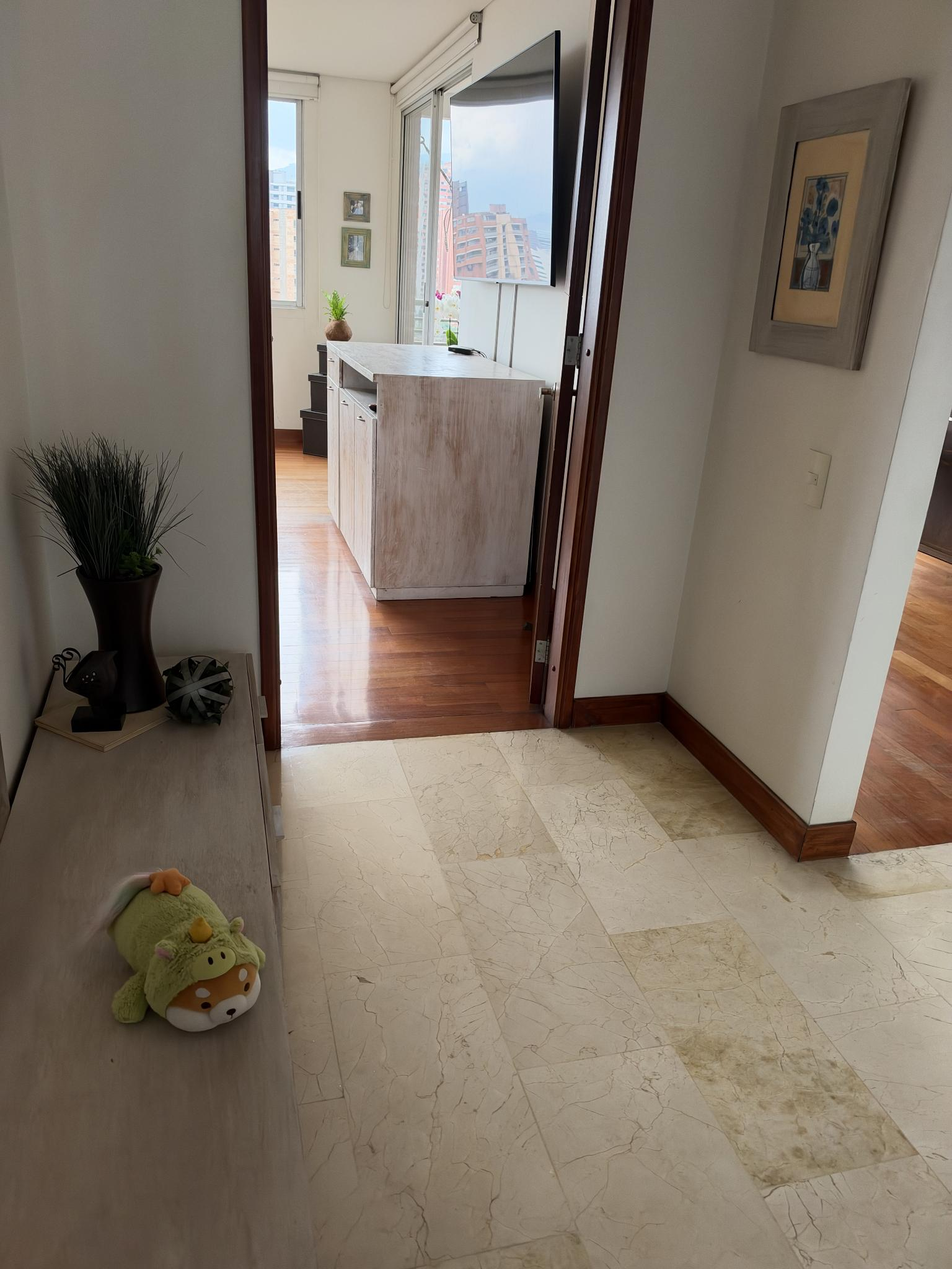peluche_martin: (82, 868, 266, 1033)
